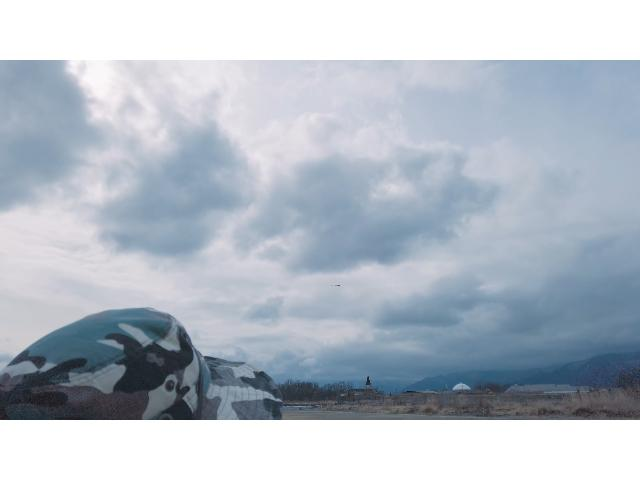Anti-Drone: (328, 282, 344, 288)
